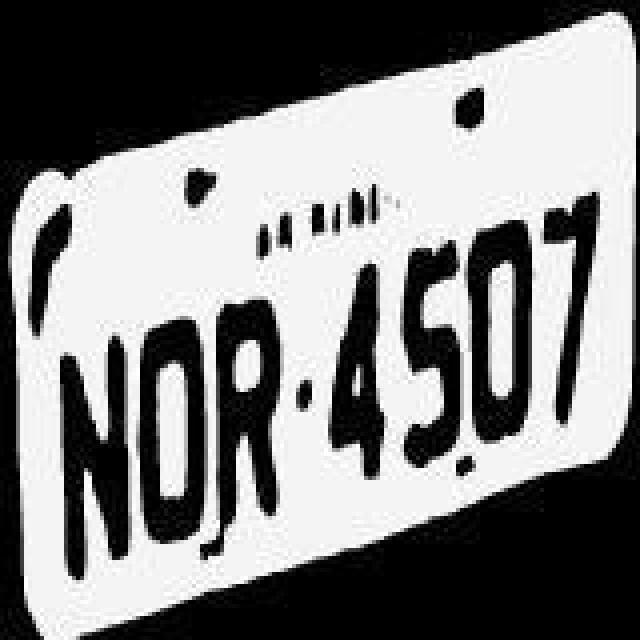4: (322, 246, 390, 514)
5: (396, 232, 460, 488)
7: (536, 176, 608, 448)
N: (58, 308, 134, 588)
O: (136, 282, 208, 550), (464, 212, 536, 452)
R: (210, 288, 294, 528)
